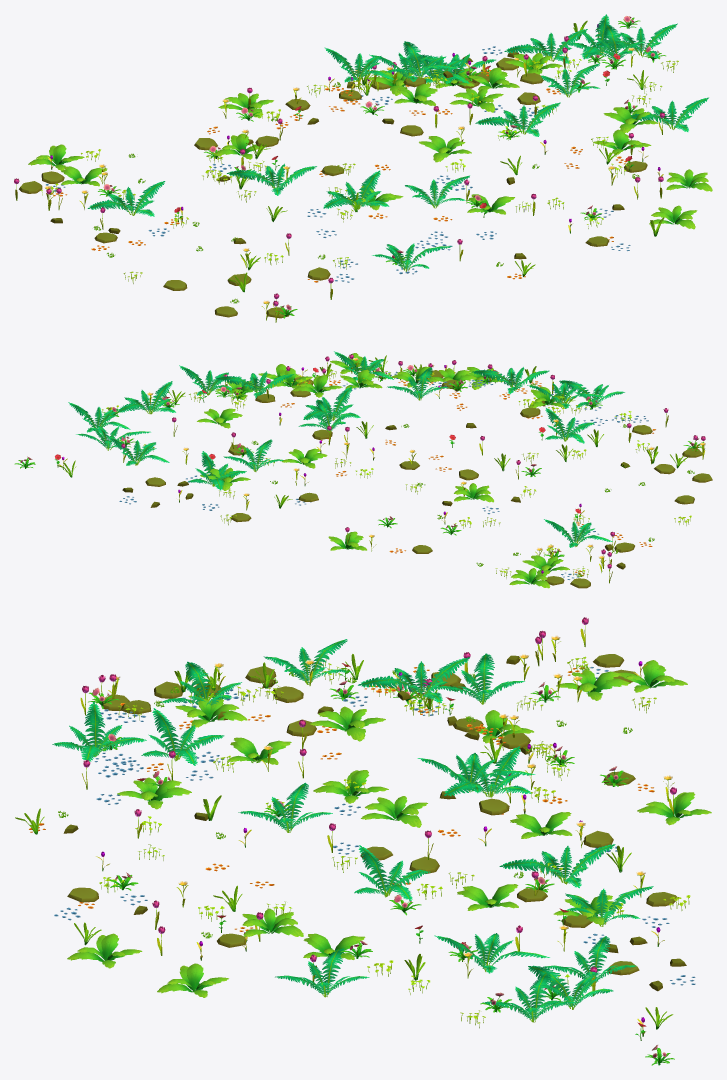
File: Flores5.fbx
3 views of the same model, one above another, from view 1: azimuth 30°, elevation 25°; view 2: azimuth 150°, elevation 25°; view 3: azimuth 270°, elevation 25° (orthographic). The views are drawn at different scales.
Visible parts, largest first — view 1: Plane.007; view 2: Plane.007; view 3: Plane.007.
Part boxes in pixels (box(x1,y1,x2,y2)): Plane.007: box(14, 14, 712, 322); Plane.007: box(14, 351, 712, 588); Plane.007: box(15, 617, 711, 1065).
Size of the model in its own units: 8.64 by 1.65 by 6.07.
2 materials, 1 textured.
